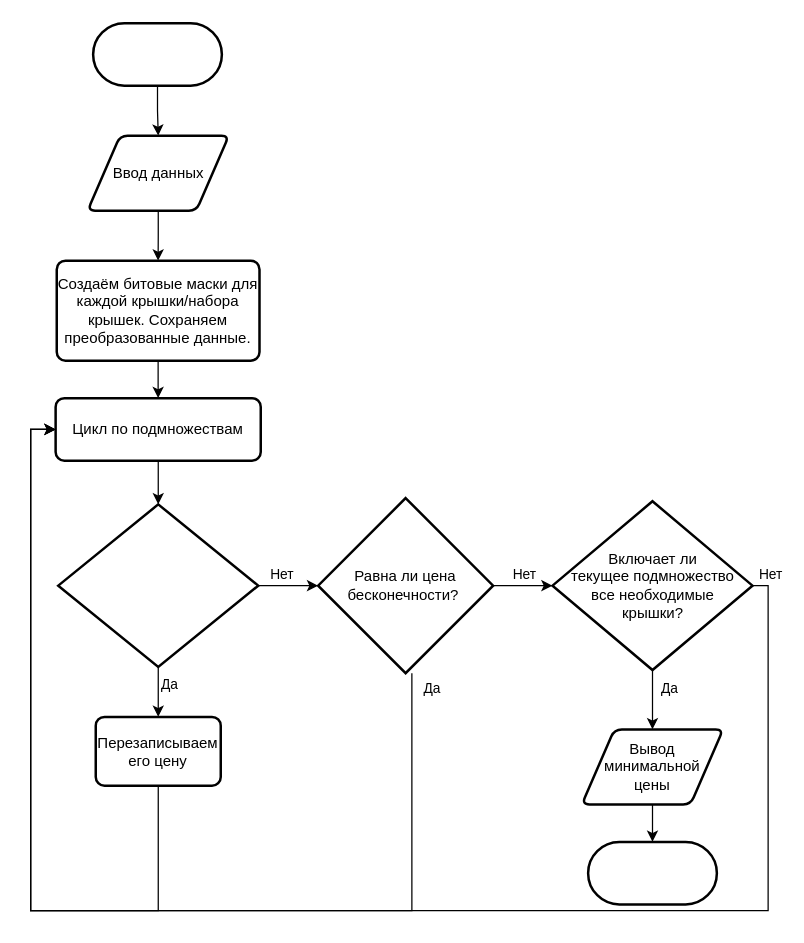
This 804x943 diagram has some shape labels left out. Each missing label, with the box of its shape:
Конец: (586, 840, 718, 905)
Начало: (91, 21, 222, 86)
Существует ли это подмножество?: (56, 502, 259, 668)
